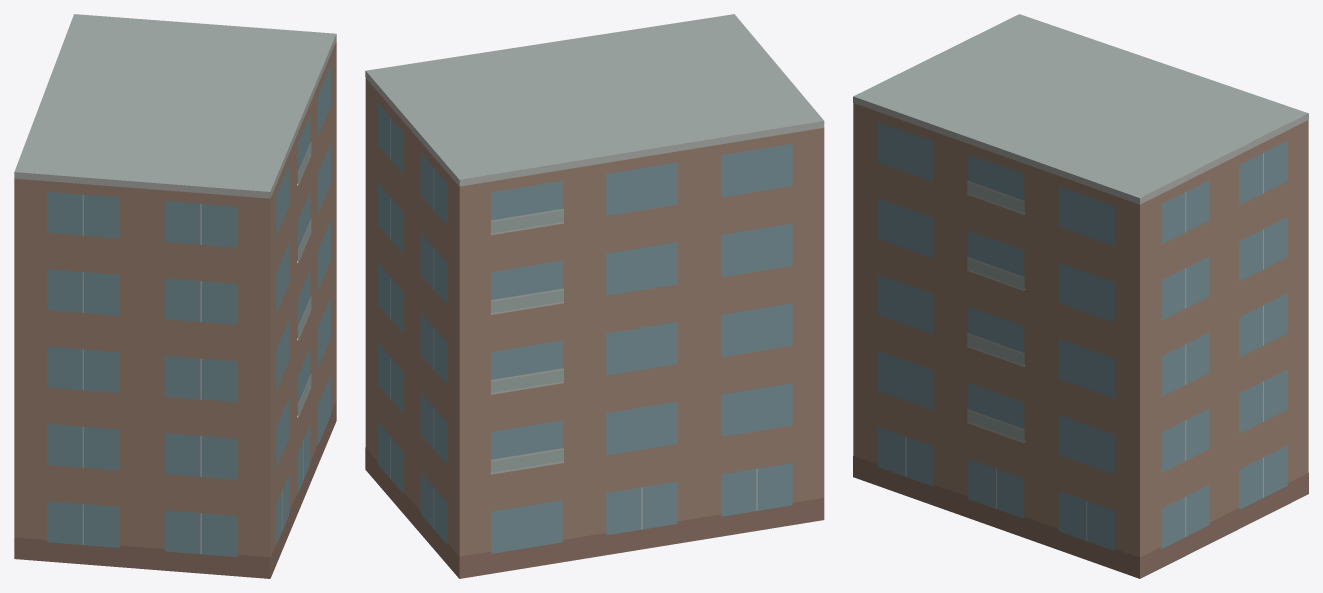
The model's file is survey-upis-32882632.glb.
The picture shows the model from 3 angles, left to right: view 1: azimuth 30°, elevation 25°; view 2: azimuth 150°, elevation 25°; view 3: azimuth 270°, elevation 25°; orthographic projection. The views are drawn at different scales.
Parts seen in each view (by area): view 1: survey-upis-32882632.tmp; view 2: survey-upis-32882632.tmp; view 3: survey-upis-32882632.tmp.
Part boxes in pixels (x1,y1,x2,y2): survey-upis-32882632.tmp: (14,14,336,578); survey-upis-32882632.tmp: (365,14,824,578); survey-upis-32882632.tmp: (853,14,1308,578).
Bounding box in the file's own units: 14.95 × 14.4 × 15.63.
